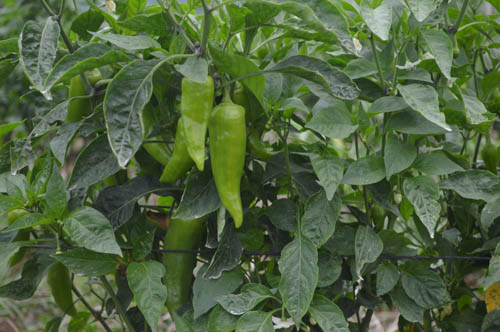ChiliPepper: (209, 104, 248, 230), (162, 215, 205, 311), (181, 79, 212, 169), (159, 118, 195, 187), (48, 264, 75, 316)
